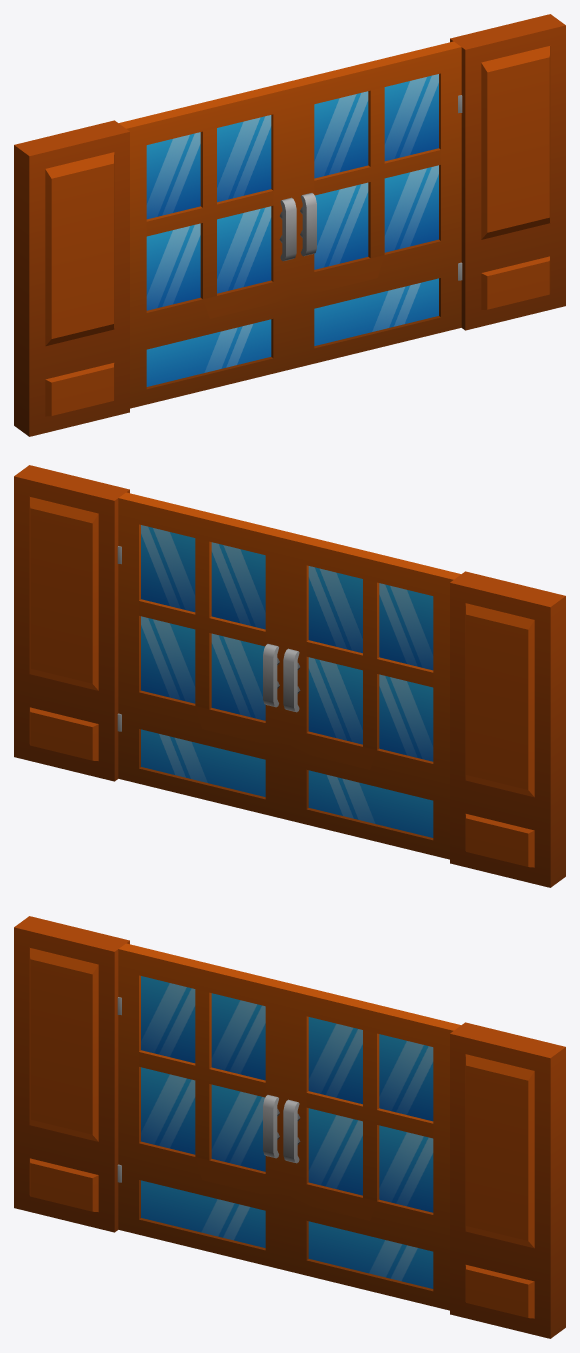
File: Wall__Door_01.fbx
3 views of the same model, one above another, from view 1: azimuth 30°, elevation 25°; view 2: azimuth 150°, elevation 25°; view 3: azimuth 330°, elevation 25° (orthographic).
Visible parts, largest first — view 1: Wall _Door_01, Wall _Door_01_L, Wall _Door_01_R; view 2: Wall _Door_01, Wall _Door_01_L, Wall _Door_01_R; view 3: Wall _Door_01, Wall _Door_01_R, Wall _Door_01_L.
Boxes of the visible parts, <box> form: Wall _Door_01: <box>14,14,565,436</box>; Wall _Door_01_L: <box>286,41,461,368</box>; Wall _Door_01_R: <box>119,82,296,408</box>; Wall _Door_01: <box>14,465,565,887</box>; Wall _Door_01_L: <box>118,492,293,819</box>; Wall _Door_01_R: <box>283,533,460,859</box>; Wall _Door_01: <box>14,916,565,1338</box>; Wall _Door_01_R: <box>118,943,293,1270</box>; Wall _Door_01_L: <box>283,984,460,1310</box>.
Size of the model in its own units: 400 by 200 by 29.93.
